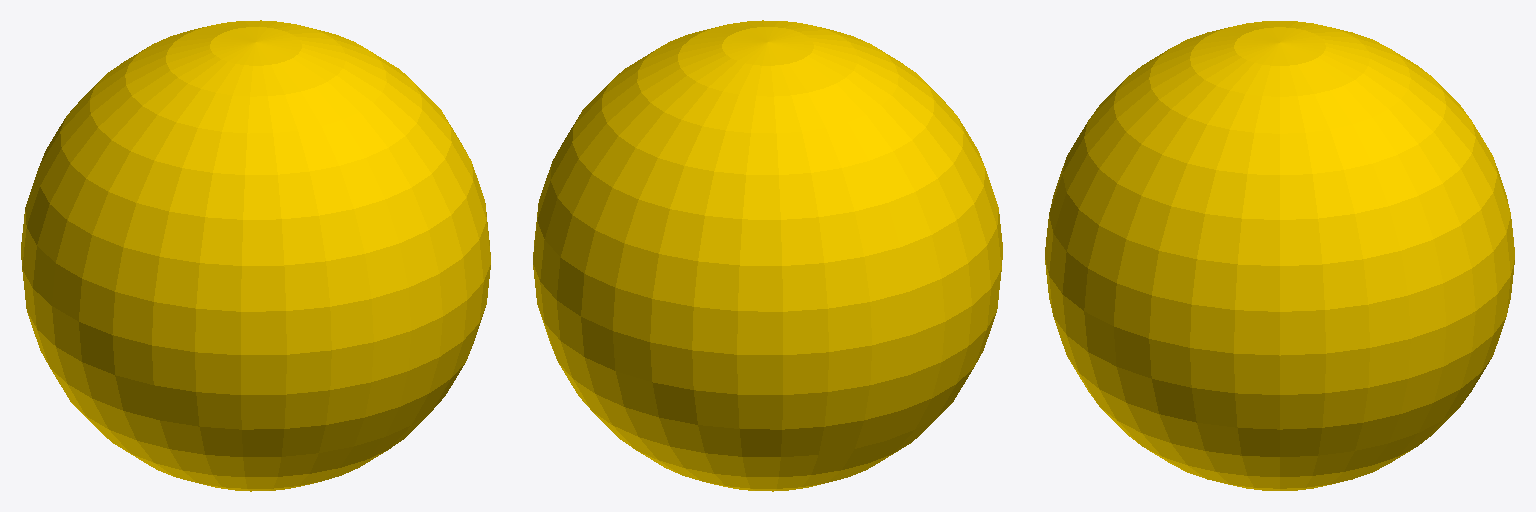
The robot description file, URDF, robot "ball":
<?xml version="1.0" encoding="utf-8"?>
<robot name="ball">
  <!-- Yellow soccer ball -->
  <link name="ball">
    <inertial>
      <mass value="0.05"/>
      <inertia ixx="0.0001" ixy="0" ixz="0" iyy="0.0001" iyz="0" izz="0.0001"/>
    </inertial>
    <visual>
      <geometry>
        <sphere radius="0.11"/>
      </geometry>
      <material name="yellow">
        <color rgba="1.0 0.84 0.0 1"/>
      </material>
    </visual>
    <collision>
      <geometry>
        <sphere radius="0.11"/>
      </geometry>
    </collision>
  </link>

  <!-- Gazebo: ball visual material -->
  <gazebo reference="ball">
    <visual>
      <material>
        <ambient>1.0 0.84 0.0 1</ambient>
        <diffuse>1.0 0.84 0.0 1</diffuse>
        <specular>0.3 0.3 0.3 1</specular>
      </material>
    </visual>
  </gazebo>
</robot>

--- Facts derived from the render (not from the file) ---
Views: 3 orthographic renders of the robot side by side, from view 1: azimuth 30°, elevation 25°; view 2: azimuth 150°, elevation 25°; view 3: azimuth 270°, elevation 25°.
Model ball with 1 links and 0 joints (none), rooted at ball, posed every joint at zero.
Visible links, largest first — view 1: ball; view 2: ball; view 3: ball.
Link boxes in pixels (x1,y1,x2,y2): ball: (21, 20, 490, 491); ball: (533, 20, 1002, 491); ball: (1045, 21, 1514, 490).
Bounding box of the posed robot: 0.22 × 0.22 × 0.22 m (x, y, z).
Geometry: primitives only (box / cylinder / sphere), no mesh files.
